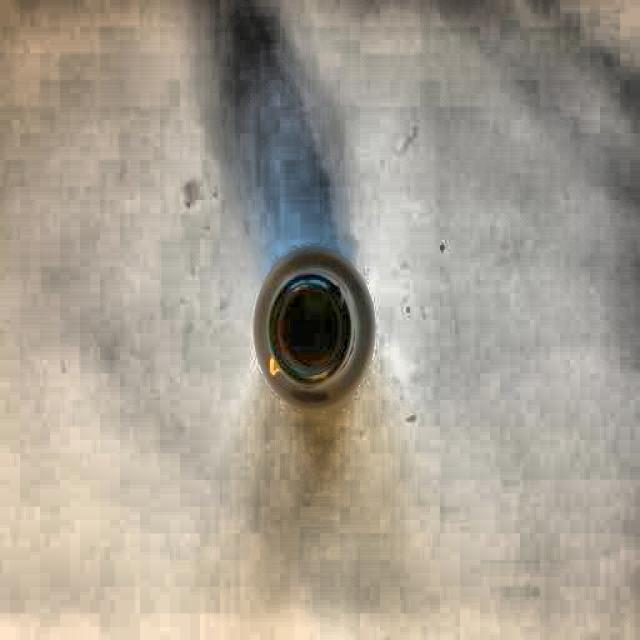glass: (246, 241, 385, 416)
